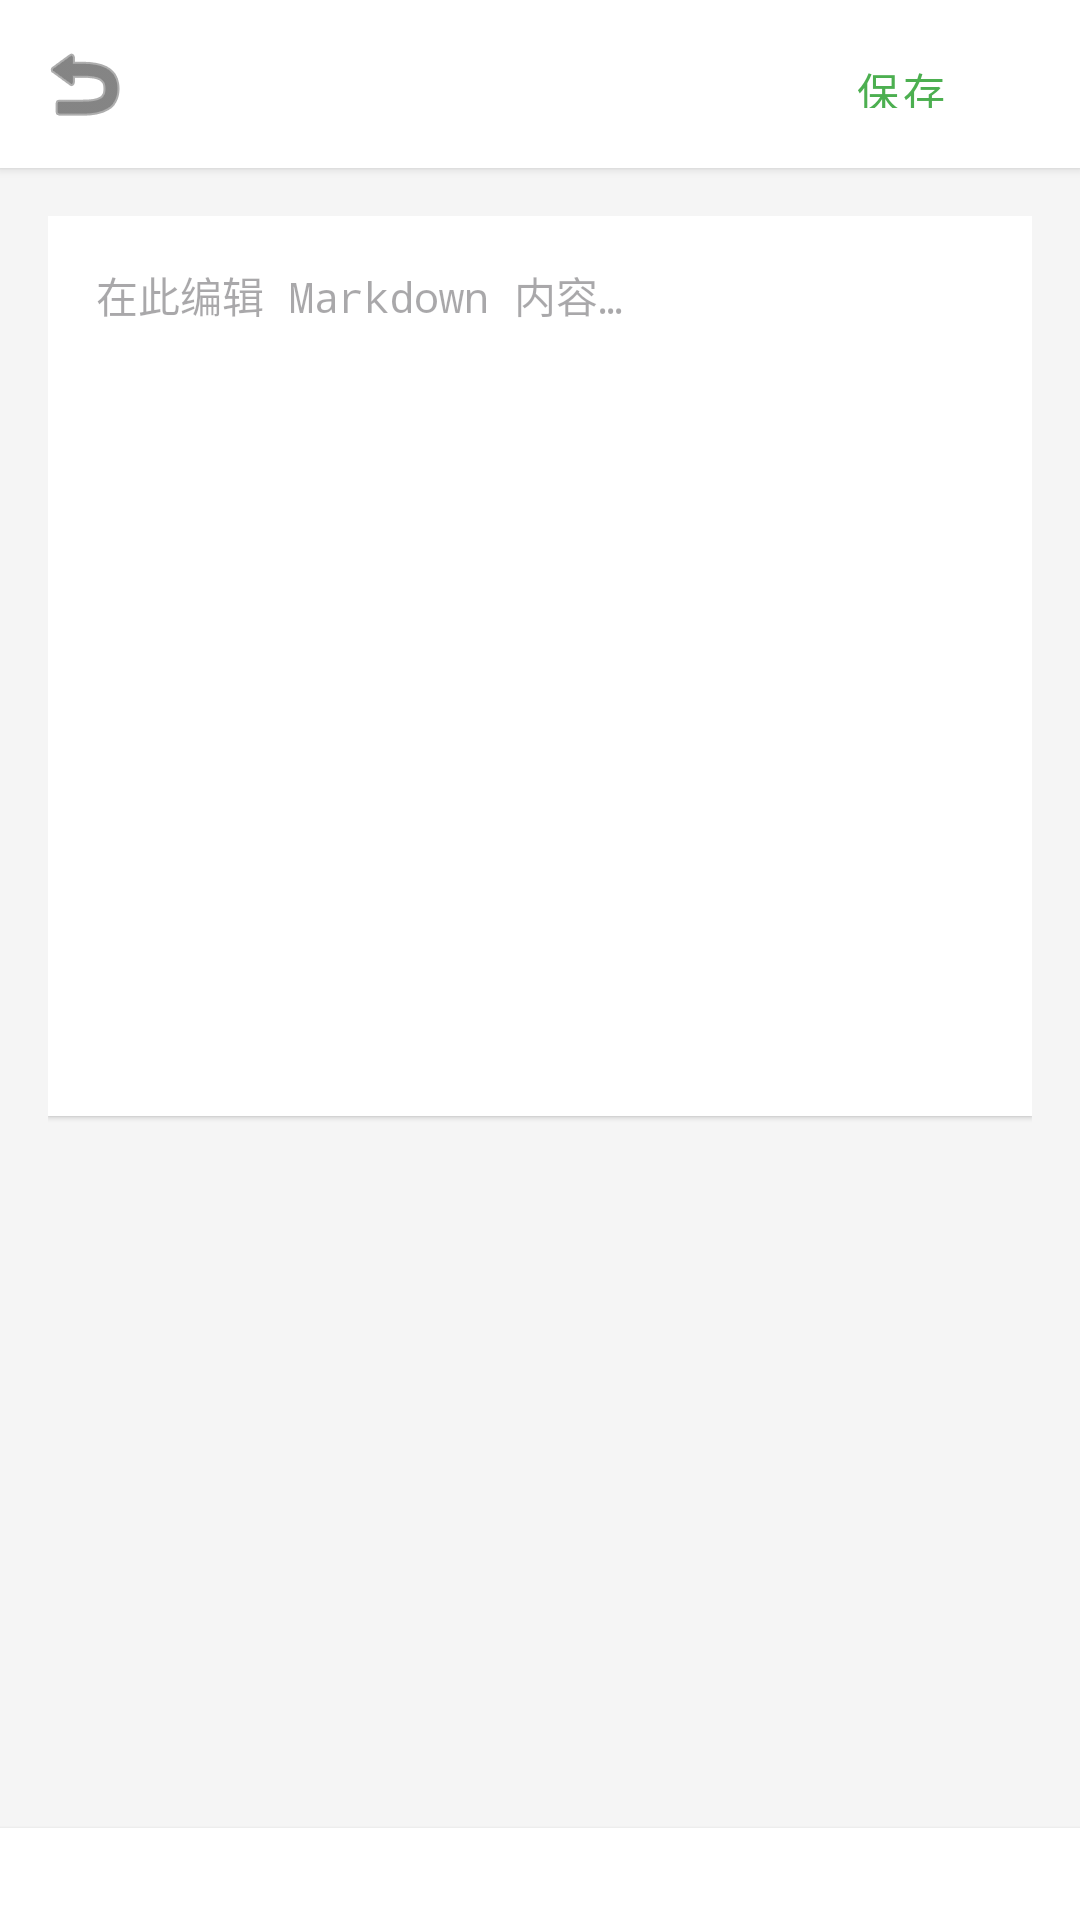

Icon bounding boxes for this 1080px x 1920px phone screenshot, format (x1, y1, x2, y2):
取消: (51, 53, 120, 116)
